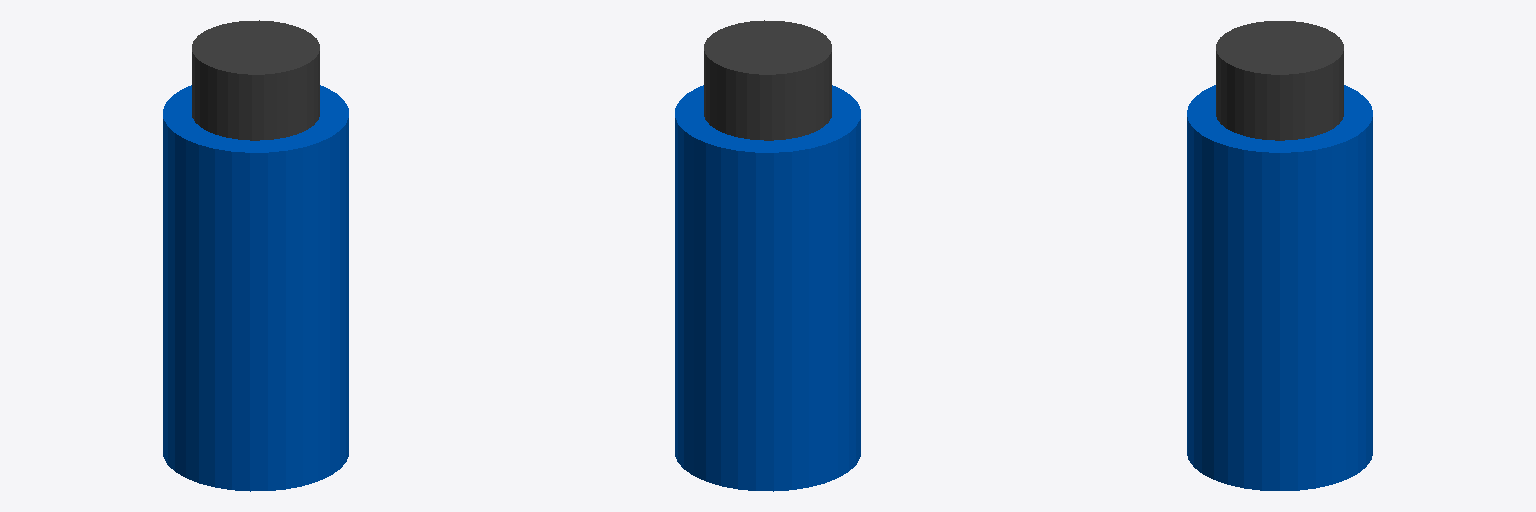
The robot description file, URDF, robot "wide_mouth_bottle_1L":
<?xml version="1.0"?>
<robot name="wide_mouth_bottle_1L">

  <material name="bottle_blue"><color rgba="0.0 0.4 0.8 0.8"/></material>
  <material name="cap_grey"><color rgba="0.3 0.3 0.3 1.0"/></material>

  <link name="base_link"/>

  <joint name="base_to_body" type="fixed">
    <parent link="base_link"/>
    <child link="bottle_body"/>
    <origin xyz="0 0 0" rpy="0 0 0"/>
  </joint>

  <link name="bottle_body">
    <visual>
      <origin xyz="0 0 0.09" rpy="0 0 0"/>
      <geometry><cylinder radius="0.045" length="0.18"/></geometry>
      <material name="bottle_blue"/>
    </visual>
    <collision>
      <origin xyz="0 0 0.09" rpy="0 0 0"/>
      <geometry><cylinder radius="0.045" length="0.18"/></geometry>
    </collision>
    <inertial>
      <origin xyz="0 0 0.09" rpy="0 0 0"/>
      <mass value="0.8"/> <inertia ixx="0.0023" ixy="0" ixz="0" iyy="0.0023" iyz="0" izz="0.0008"/>
    </inertial>
  </link>

  <link name="bottle_neck">
    <visual>
      <origin xyz="0 0 0.0175" rpy="0 0 0"/>
      <geometry><cylinder radius="0.031" length="0.035"/></geometry>
      <material name="cap_grey"/>
    </visual>
    <collision>
      <origin xyz="0 0 0.0175" rpy="0 0 0"/>
      <geometry><cylinder radius="0.031" length="0.035"/></geometry>
    </collision>
    <inertial>
      <origin xyz="0 0 0.0175" rpy="0 0 0"/>
      <mass value="0.2"/>
      <inertia ixx="0.0001" ixy="0" ixz="0" iyy="0.0001" iyz="0" izz="0.0001"/>
    </inertial>
  </link>

  <joint name="body_to_neck" type="fixed">
    <parent link="bottle_body"/>
    <child link="bottle_neck"/>
    <origin xyz="0 0 0.18" rpy="0 0 0"/>
  </joint>

  <gazebo reference="bottle_body">
    <mu1>0.8</mu1>
    <mu2>0.8</mu2>
    <material>Gazebo/BlueTransparent</material>
  </gazebo>

  <gazebo reference="bottle_neck">
    <mu1>0.5</mu1>
    <mu2>0.5</mu2>
    <material>Gazebo/Grey</material>
  </gazebo>

</robot>

--- What the picture shows (computed from the rendered views, not written in the file) ---
3 views of the same robot in one strip: view 1: azimuth 30°, elevation 25°; view 2: azimuth 150°, elevation 25°; view 3: azimuth 270°, elevation 25° (orthographic).
Robot: wide_mouth_bottle_1L — 3 links, 2 joints (2 fixed); root link base_link; default pose: all joints at 0.
Links seen in each view (by area): view 1: bottle_body, bottle_neck; view 2: bottle_body, bottle_neck; view 3: bottle_body, bottle_neck.
Link boxes in pixels (x1,y1,x2,y2): bottle_body: [163, 85, 348, 491]; bottle_neck: [192, 20, 319, 140]; bottle_body: [675, 85, 860, 491]; bottle_neck: [704, 20, 831, 140]; bottle_body: [1187, 85, 1372, 490]; bottle_neck: [1216, 21, 1343, 140].
Size in the robot's own frame: 0.09 by 0.09 by 0.215 metres.
Geometry: primitives only (box / cylinder / sphere), no mesh files.